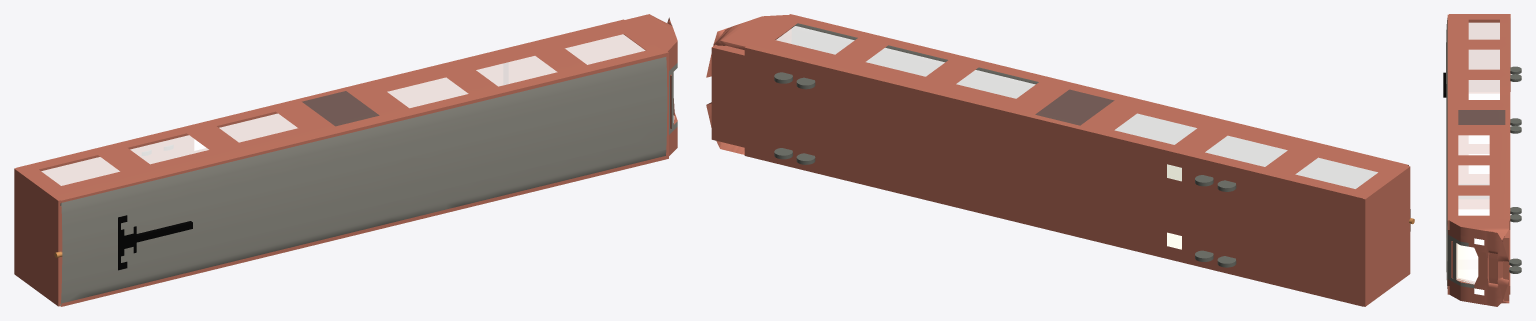
The model's file is asset18.glb.
3 renders of one model, left to right at view 1: azimuth 30°, elevation 25°; view 2: azimuth 150°, elevation 25°; view 3: azimuth 270°, elevation 25°, orthographic. The views are drawn at different scales.
Visible parts, largest first — view 1: Cylinder2, Cube1_copy12, Cube16, Cube19, Cube18, Cylinder13, Cube13_copy14, Cube13; view 2: Cube1_copy12, Cube16, Cylinder2, Cube19, Cube18, Cylinder13; view 3: Cube1_copy12, Cube16, Cylinder13, Cube19, Cube16_copy17, Cylinder2, Cube18, Cylinder4_copy10, Cylinder4_copy7, Cylinder4_copy6, Cylinder4_copy5, Cube13 (+4 smaller).
Part boxes in pixels (box(x1,y1,x2,y2)): Cylinder2: box(60, 57, 667, 305); Cube1_copy12: box(16, 19, 668, 306); Cube16: box(41, 34, 645, 185); Cube19: box(14, 168, 61, 306); Cube18: box(504, 34, 646, 84); Cylinder13: box(622, 14, 677, 155); Cube13_copy14: box(118, 215, 136, 270); Cube13: box(133, 221, 192, 242); Cube1_copy12: box(744, 14, 1408, 306); Cube16: box(776, 26, 1377, 249); Cylinder2: box(791, 23, 1410, 231); Cube19: box(1352, 166, 1410, 306); Cube18: box(711, 44, 744, 147); Cylinder13: box(706, 14, 792, 154); Cube1_copy12: box(1447, 14, 1510, 294); Cube16: box(1458, 22, 1499, 280); Cylinder13: box(1447, 219, 1509, 306); Cube19: box(1449, 14, 1510, 91); Cube16_copy17: box(1456, 243, 1478, 284); Cylinder2: box(1446, 18, 1447, 288); Cube18: box(1502, 229, 1509, 300); Cylinder4_copy10: box(1509, 258, 1521, 266); Cylinder4_copy7: box(1510, 214, 1521, 222); Cylinder4_copy6: box(1509, 266, 1521, 273); Cylinder4_copy5: box(1510, 66, 1521, 74); Cube13: box(1443, 72, 1446, 97).
Bounding box in the file's own units: 0.978 × 0.153 × 0.1471.
